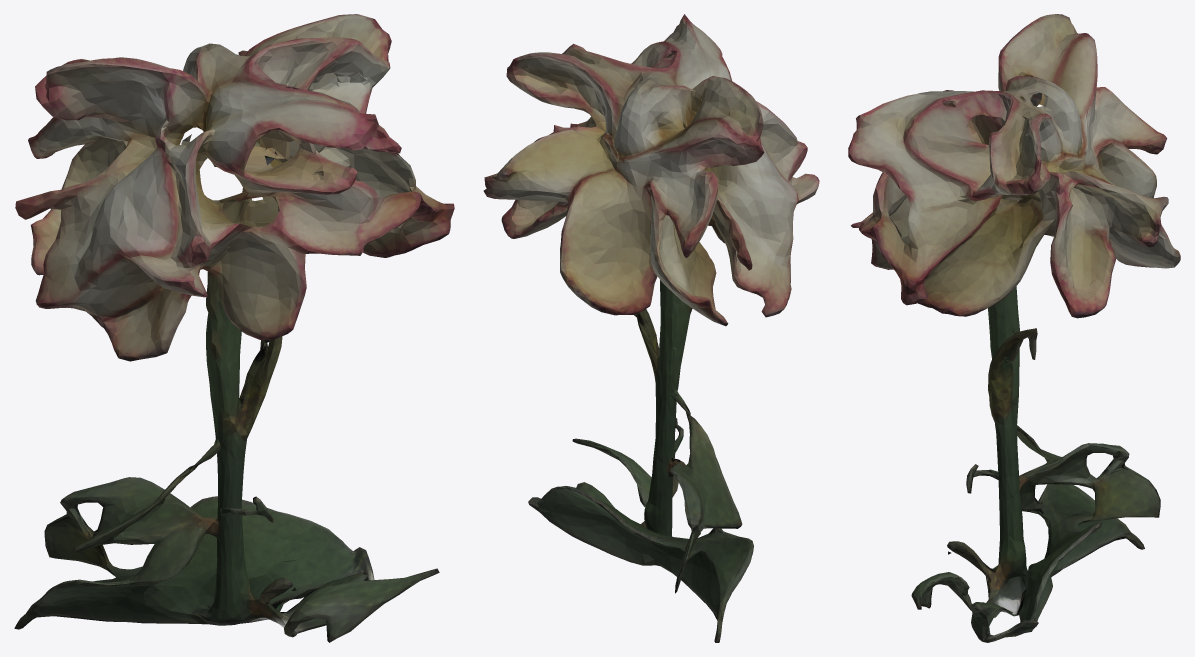
3 views of the same model, side by side, from view 1: azimuth 30°, elevation 25°; view 2: azimuth 150°, elevation 25°; view 3: azimuth 270°, elevation 25° (orthographic). The views are drawn at different scales.
Parts seen in each view (by area): view 1: world; view 2: world; view 3: world.
Part boxes in pixels (x1,y1,x2,y2): world: [14, 14, 454, 642]; world: [483, 14, 819, 642]; world: [848, 14, 1180, 642].
Bounding box in the file's own units: 0.5551 × 0.9437 × 0.5246.
Materials: 1 (1 with a texture image).
